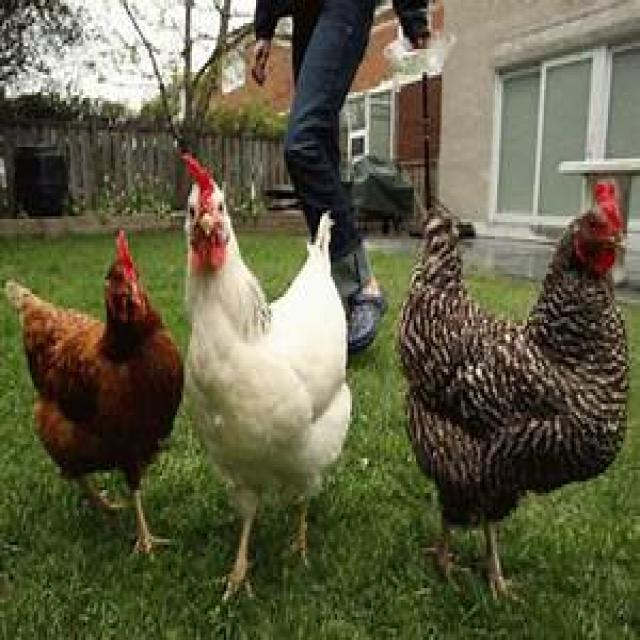hen: (399, 184, 629, 594), (185, 155, 349, 597), (6, 234, 184, 552)
